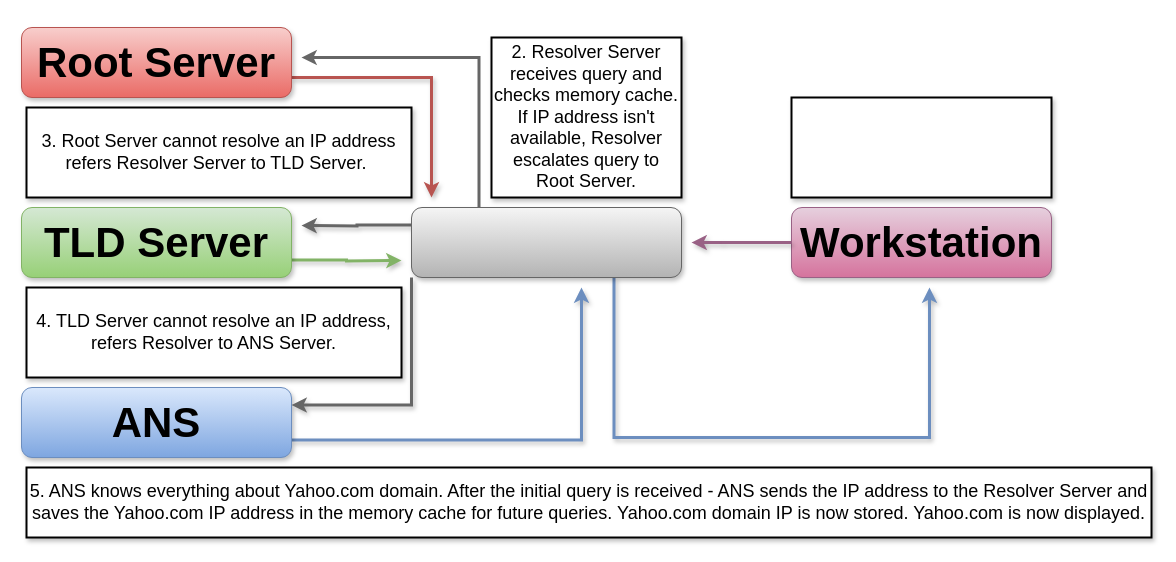
Some shapes in this 1176 by 562 pixel diagram are drawn without their labels. Here are the shapes that lost their labels. From the top down, the centre of each, then its label:
pixel 922 148: 1. Web-Browser or OS cannot locate IP address for Yahoo.com within memory cache.
pixel 547 243: Resolver
